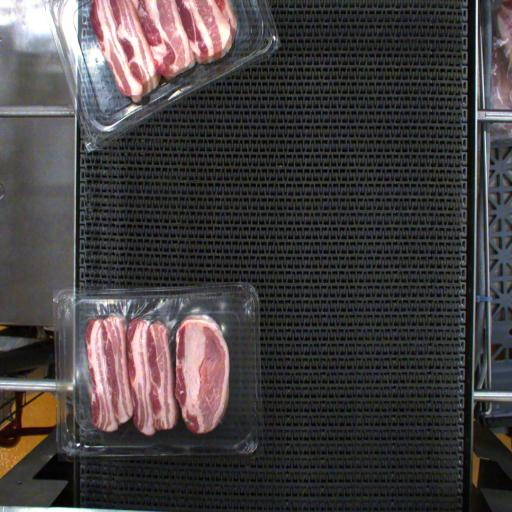unsealed: (50, 294, 255, 438)
